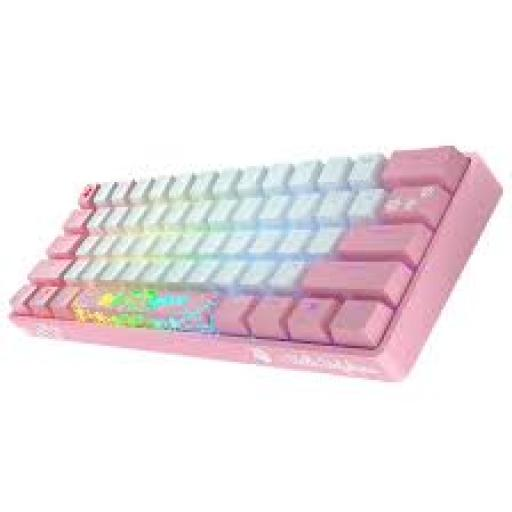KEYBOARD-2: (10, 146, 502, 380)
